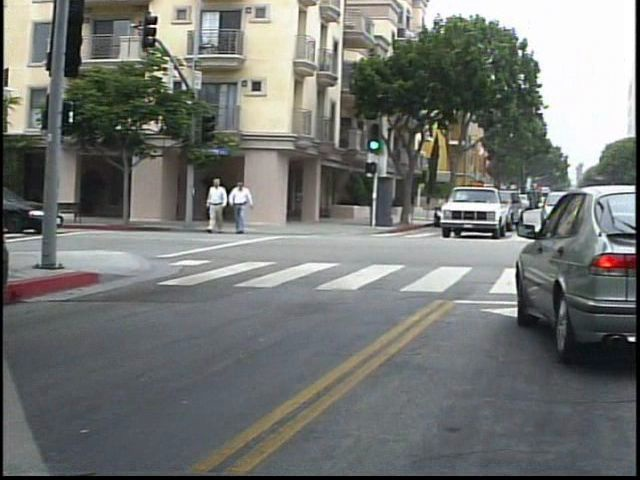person: (236, 175, 264, 239), (210, 175, 235, 241)
